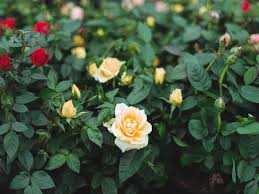rose: (30, 48, 51, 69)
